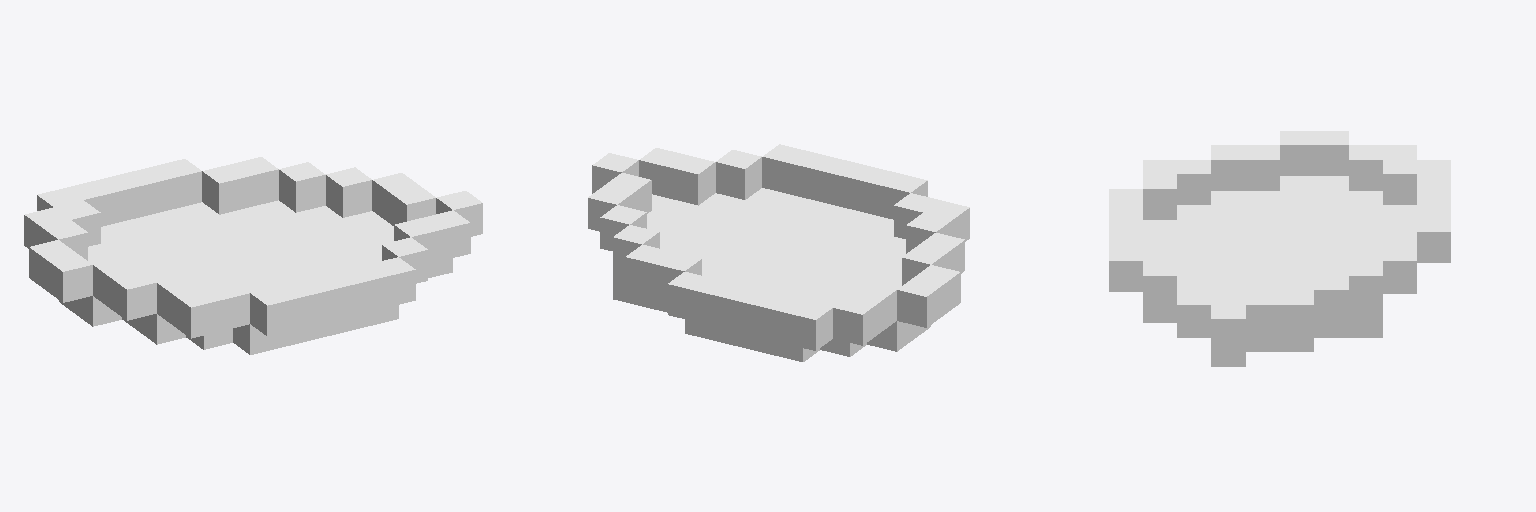
The model's file is dziura2.obj.
3 renders of one model, left to right at view 1: azimuth 30°, elevation 25°; view 2: azimuth 150°, elevation 25°; view 3: azimuth 270°, elevation 25°, orthographic.
Visible parts, largest first — view 1: object 1; view 2: object 1; view 3: object 1.
Part boxes in pixels (left/top/right/bottom): object 1: left=24, top=157, right=482, bottom=354; object 1: left=588, top=144, right=969, bottom=361; object 1: left=1109, top=131, right=1450, bottom=366.
Bounding box in the file's own units: 1.3 × 0.2 × 1.